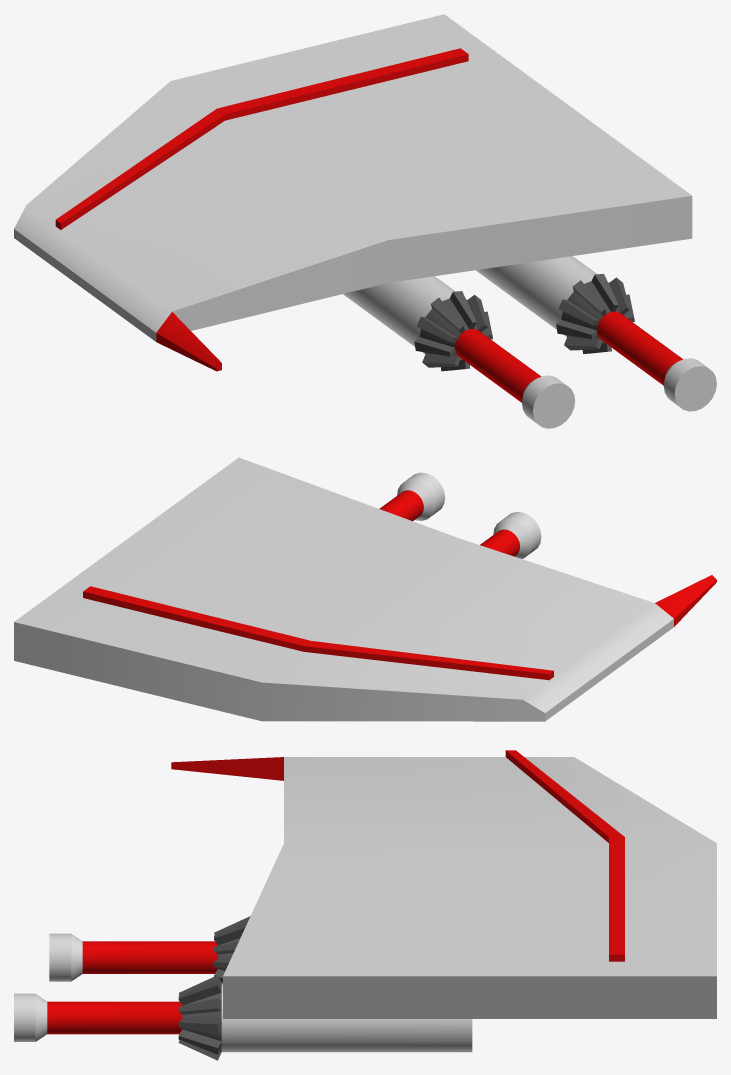
Rendered from RIGHT_WING.fbx.
The picture shows the model from 3 angles, top to bottom: view 1: azimuth 30°, elevation 25°; view 2: azimuth 150°, elevation 25°; view 3: azimuth 270°, elevation 25°; orthographic projection. The views are drawn at different scales.
Visible parts, largest first — view 1: LEFT_WING; view 2: LEFT_WING; view 3: LEFT_WING.
Boxes of the visible parts, <box> form: LEFT_WING: <box>14,14,716,428</box>; LEFT_WING: <box>14,457,716,721</box>; LEFT_WING: <box>14,750,716,1060</box>.
Size of the model in its own units: 467 by 121 by 562.
